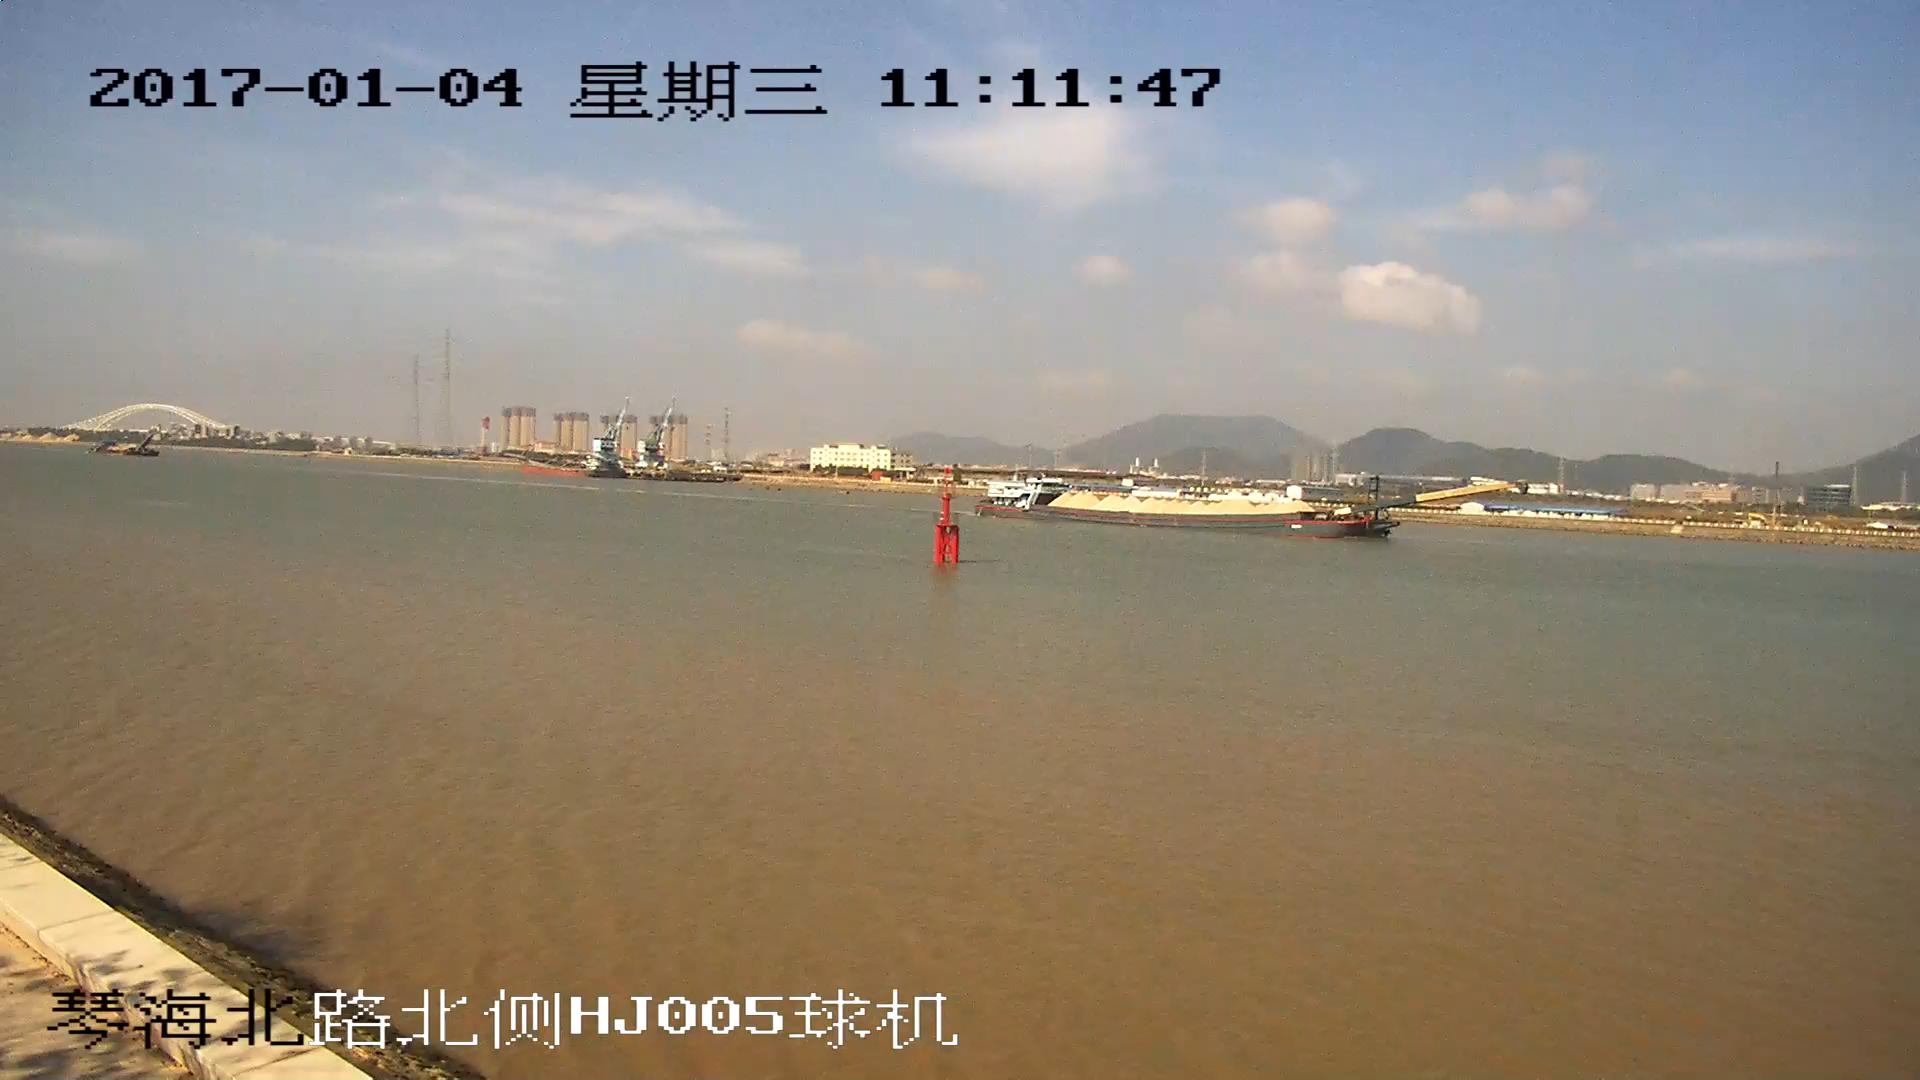ore carrier: (975, 481, 1522, 543)
